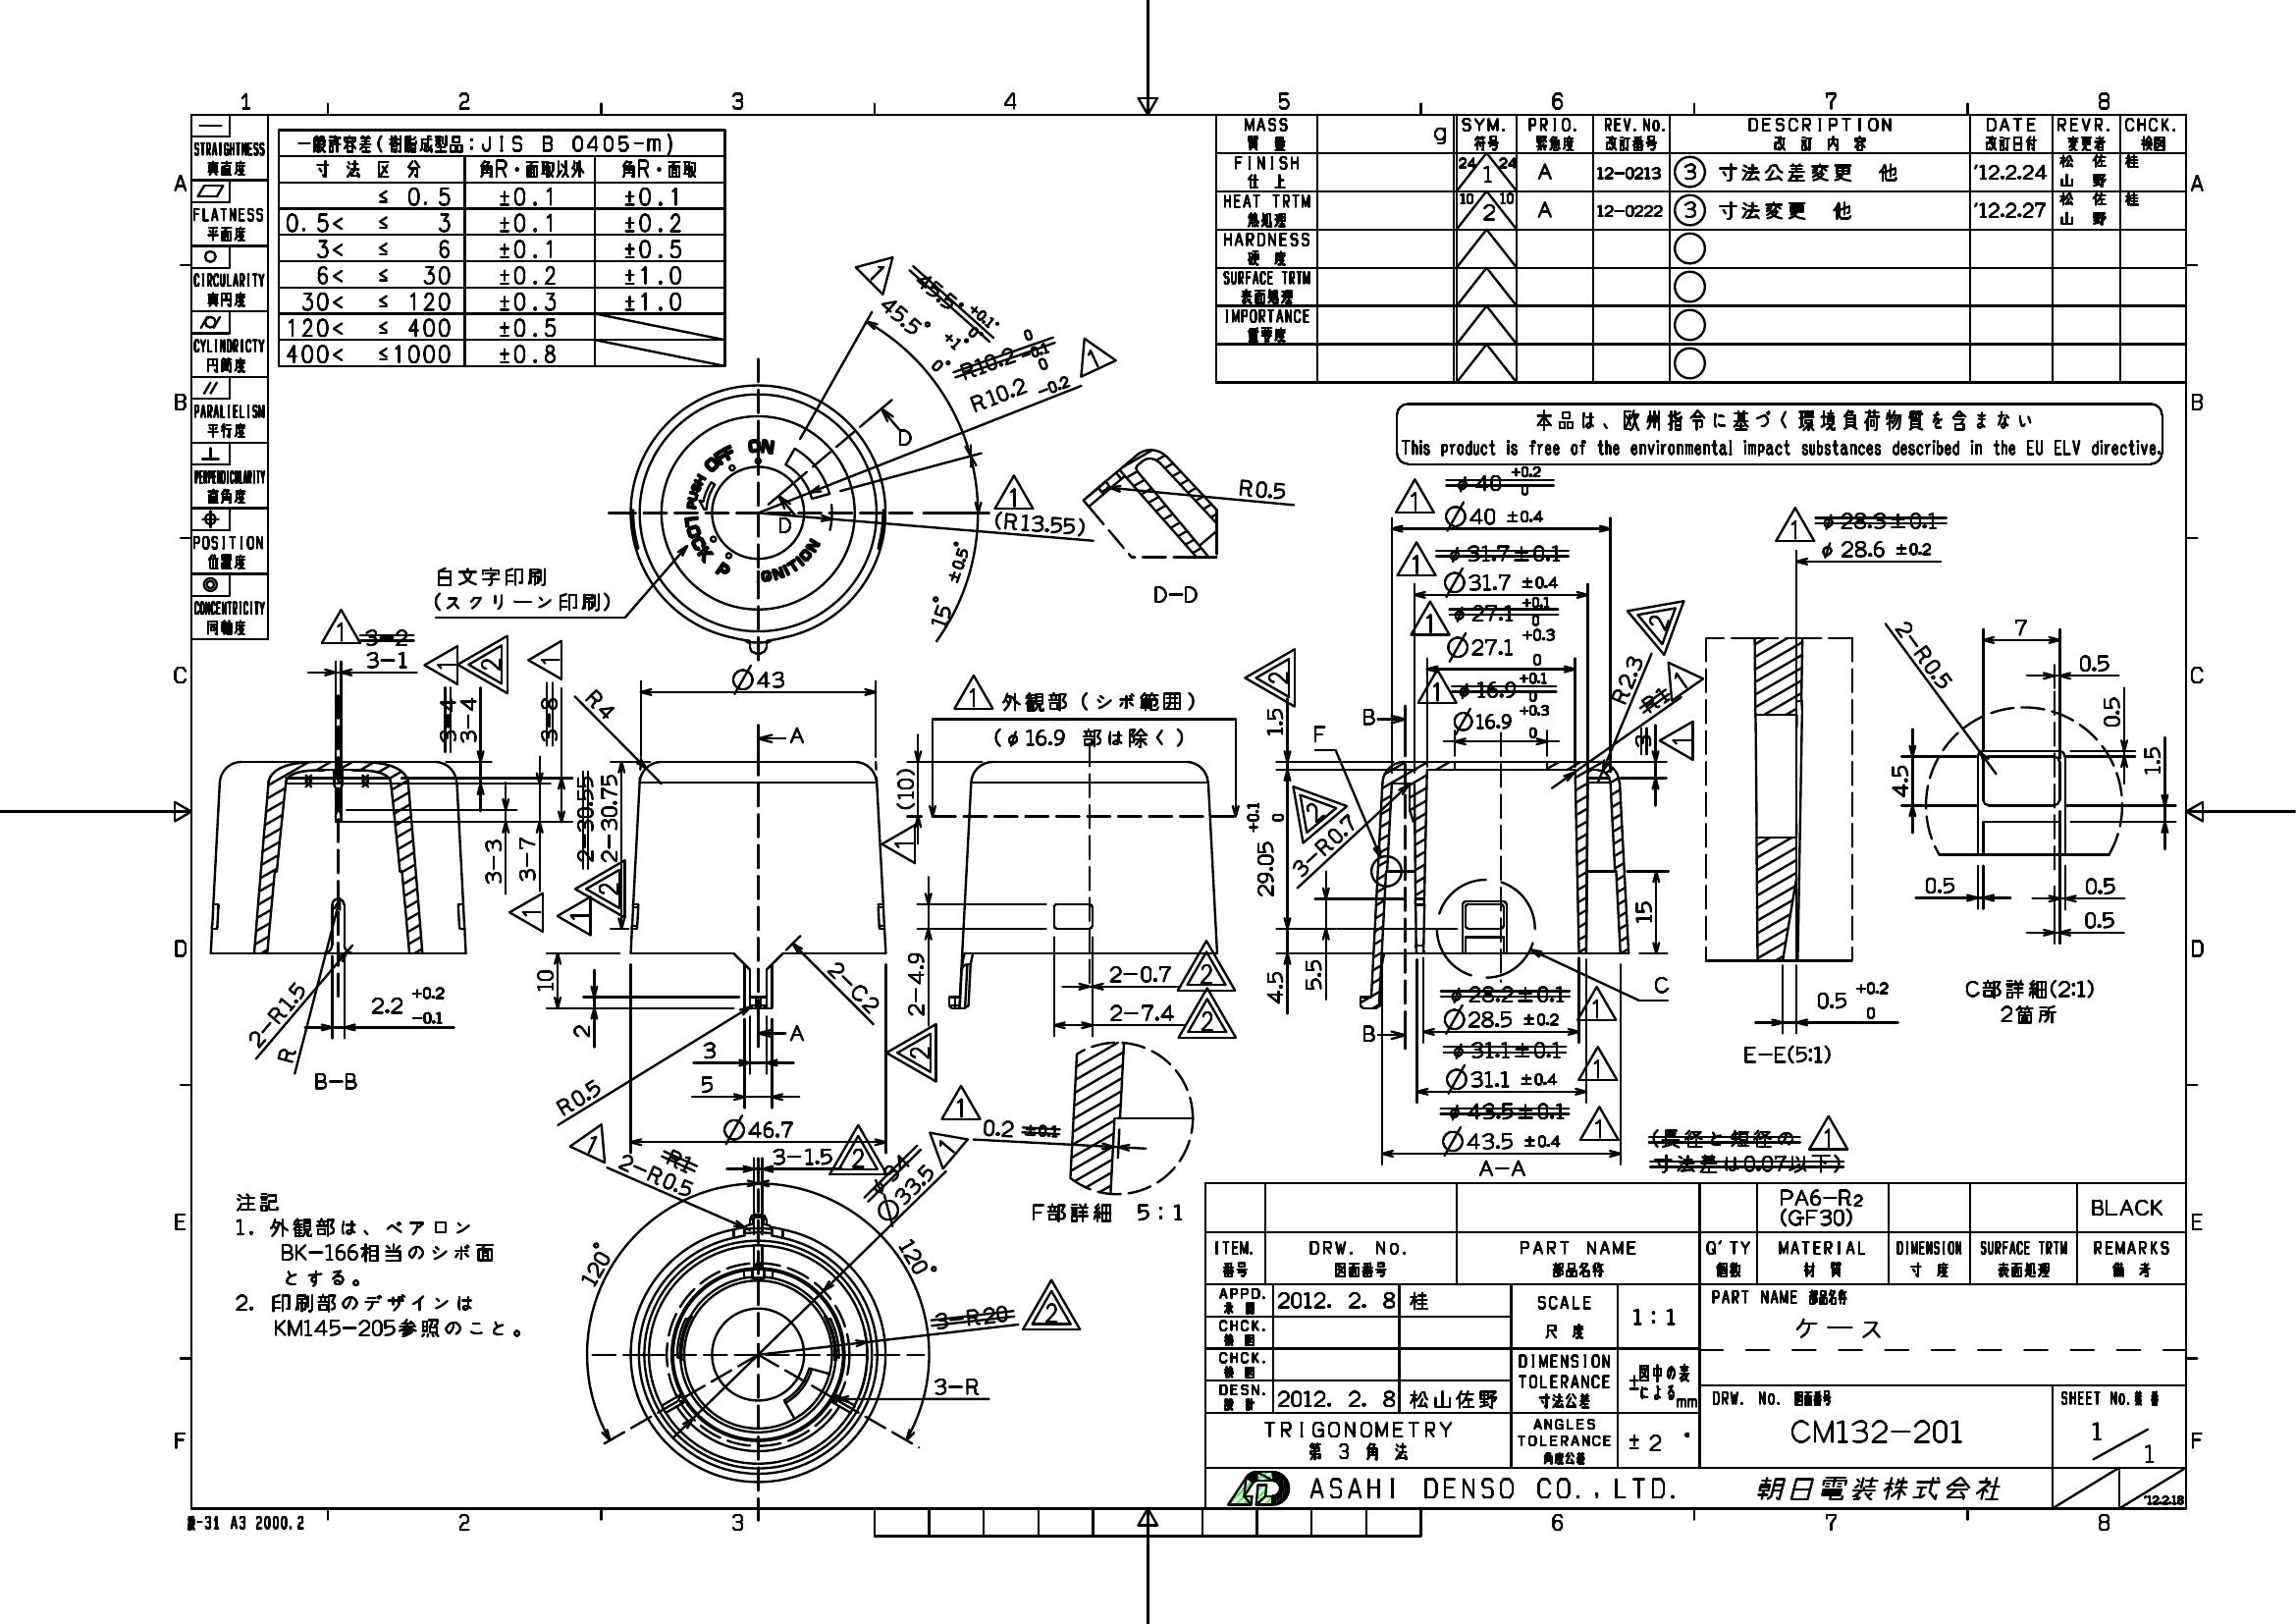anntotation_text: (1393, 401, 2164, 466), (230, 1192, 522, 1338), (950, 673, 1196, 712), (430, 564, 611, 613), (993, 722, 1186, 752), (1029, 1199, 1182, 1225), (1240, 645, 1298, 707), (1175, 939, 1238, 995), (1021, 1276, 1084, 1332), (571, 858, 627, 919), (1175, 986, 1238, 1040), (1620, 591, 1681, 645), (826, 1123, 889, 1176), (887, 1021, 938, 1083), (457, 634, 509, 692), (1964, 977, 2096, 1000), (186, 1513, 306, 1531), (1743, 1042, 1832, 1065), (569, 1120, 618, 1158), (553, 895, 594, 940), (1407, 598, 1453, 638), (1393, 540, 1440, 576), (523, 638, 564, 680), (1072, 330, 1114, 371), (506, 891, 546, 933), (1576, 1104, 1620, 1142), (1574, 984, 1618, 1023), (938, 1083, 982, 1121), (991, 473, 1036, 510), (1391, 476, 1437, 513), (880, 819, 917, 865), (422, 642, 460, 684), (1658, 656, 1700, 694), (1806, 1114, 1848, 1153), (922, 1123, 963, 1162), (1773, 506, 1815, 543), (1576, 1046, 1618, 1083), (320, 608, 360, 645), (1416, 670, 1458, 705), (1997, 1002, 2057, 1026), (863, 251, 901, 288), (1152, 582, 1198, 606), (1476, 1156, 1528, 1178), (311, 1070, 358, 1090), (783, 724, 808, 747), (274, 1042, 295, 1067), (894, 425, 915, 448), (1312, 719, 1328, 749), (1650, 974, 1671, 995), (1356, 703, 1374, 728), (1361, 1021, 1377, 1042), (789, 1023, 803, 1044)
dimension_text: (873, 301, 971, 353), (1444, 626, 1558, 668), (963, 366, 1070, 406), (1242, 800, 1286, 898), (1449, 701, 1549, 740), (1442, 566, 1560, 598), (1439, 1125, 1560, 1155), (1440, 497, 1548, 531), (1279, 777, 1339, 831), (369, 984, 446, 1025), (1815, 981, 1894, 1019), (1440, 1007, 1563, 1032), (1818, 540, 1939, 564), (905, 566, 994, 598), (1446, 1065, 1560, 1090), (996, 510, 1087, 538), (717, 1116, 798, 1144), (1282, 831, 1367, 858), (597, 772, 618, 865), (1881, 643, 1966, 666), (235, 1004, 320, 1026), (903, 947, 929, 1019), (615, 1165, 696, 1188), (871, 1178, 943, 1202), (1657, 717, 1695, 763), (820, 977, 889, 1000), (1105, 961, 1173, 984), (1233, 475, 1291, 501), (1110, 1002, 1175, 1025), (1599, 664, 1655, 691), (727, 666, 787, 691), (771, 1144, 834, 1167), (892, 1243, 940, 1271), (571, 1251, 617, 1278), (891, 765, 915, 812), (516, 835, 541, 882), (929, 1374, 980, 1397), (457, 696, 480, 747), (364, 647, 408, 673), (555, 1086, 603, 1109), (481, 838, 502, 886), (2075, 649, 2113, 673), (1887, 759, 1910, 800), (1302, 956, 1326, 993), (2082, 874, 2119, 898), (980, 1116, 1017, 1141), (580, 691, 617, 715), (2138, 742, 2164, 775), (2099, 692, 2124, 728), (1263, 965, 1286, 1002), (2083, 907, 2117, 932), (1263, 703, 1286, 738), (1922, 874, 1959, 895), (1632, 895, 1655, 926), (531, 967, 557, 993), (569, 1018, 592, 1042), (696, 1070, 715, 1095), (701, 1037, 717, 1063), (2013, 613, 2027, 640)
object: (627, 381, 887, 656), (627, 1211, 887, 1483), (1358, 758, 1632, 1012), (947, 758, 1221, 1009), (627, 758, 889, 1011), (209, 759, 469, 956), (1059, 1035, 1184, 1190), (1751, 640, 1804, 967), (1080, 446, 1219, 559), (1975, 749, 2068, 856)
title_block: (1202, 1181, 2189, 1513), (1210, 111, 2189, 387), (276, 127, 727, 367), (188, 112, 271, 643)
